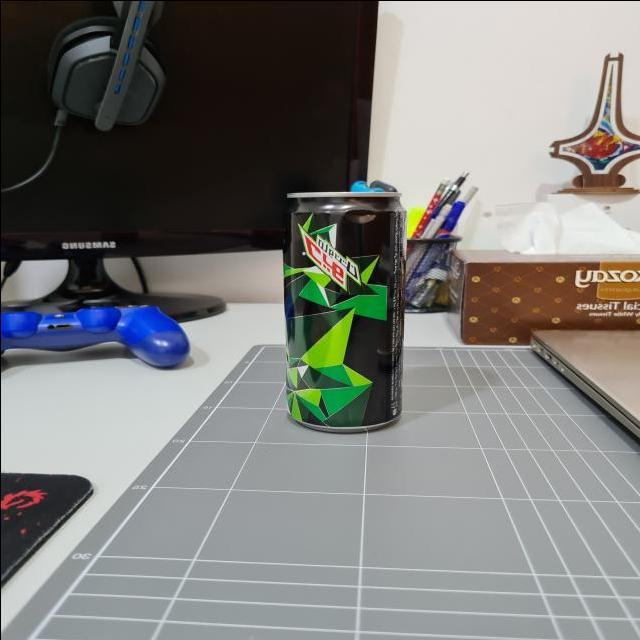can: (281, 190, 405, 432)
